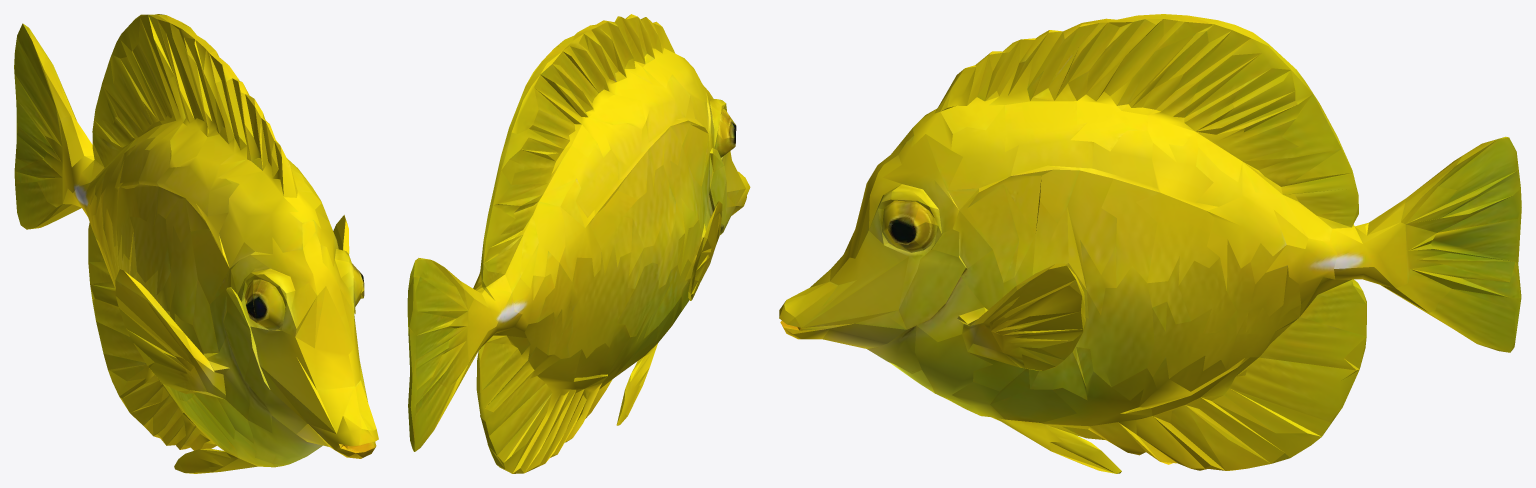
Rendered from SM_ReefFish.glb.
3 renders of one model, left to right at view 1: azimuth 30°, elevation 25°; view 2: azimuth 150°, elevation 25°; view 3: azimuth 270°, elevation 25°, orthographic. The views are drawn at different scales.
Size of the model in its own units: 0.7006 by 1.28 by 1.89.
1 material, 1 textured.
